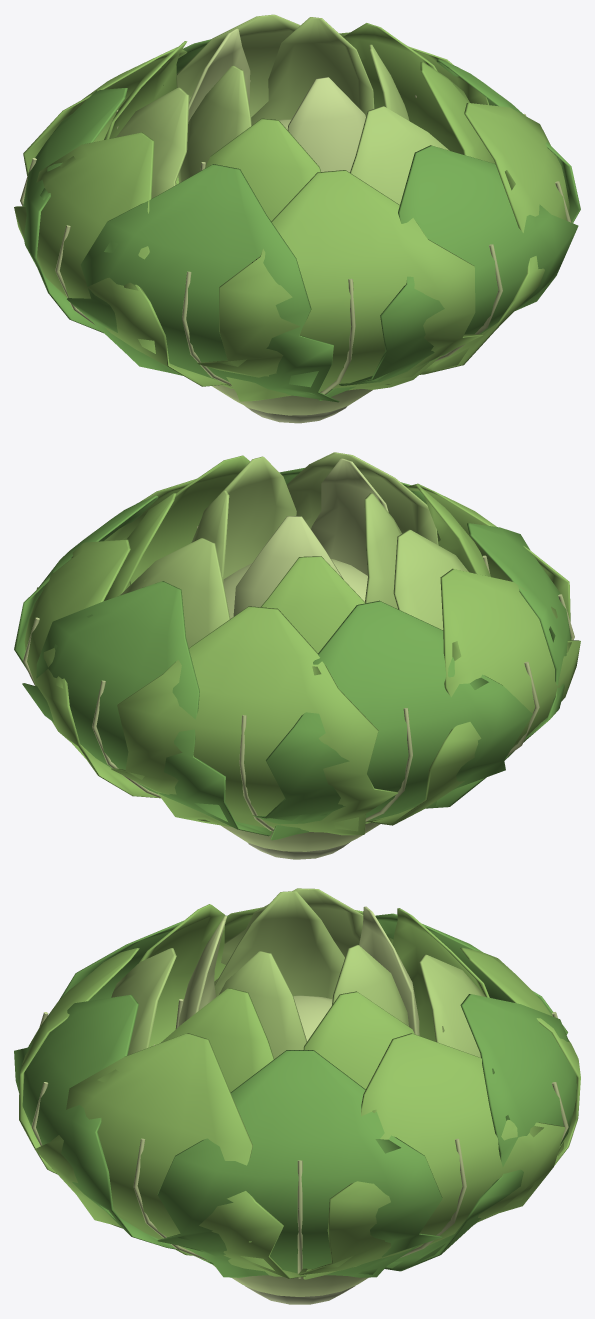
The model's file is lettuce_head.glb.
3 renders of one model, top to bottom at view 1: azimuth 30°, elevation 25°; view 2: azimuth 150°, elevation 25°; view 3: azimuth 270°, elevation 25°, orthographic.
Parts seen in each view (by area): view 1: Lettuce_Ruffled_Leaf_07, Lettuce_Ruffled_Leaf_06, Lettuce_Ruffled_Leaf_08, Lettuce_Ruffled_Leaf_05, Lettuce_Ruffled_Leaf_09, Lettuce_Ruffled_Leaf_17, Lettuce_Ruffled_Leaf_14, Lettuce_Ruffled_Leaf_04, Lettuce_Ruffled_Leaf_10, Lettuce_Ruffled_Leaf_20, Lettuce_Ruffled_Leaf_15, Lettuce_Ruffled_Leaf_19 (+13 smaller); view 2: Lettuce_Ruffled_Leaf_03, Lettuce_Ruffled_Leaf_04, Lettuce_Ruffled_Leaf_02, Lettuce_Ruffled_Leaf_05, Lettuce_Ruffled_Leaf_01, Lettuce_Ruffled_Leaf_06, Lettuce_Ruffled_Leaf_21, Lettuce_Ruffled_Leaf_12, Lettuce_Ruffled_Leaf_11, Lettuce_Ruffled_Leaf_20, Lettuce_Ruffled_Leaf_15, Lettuce_Ruffled_Leaf_13 (+14 smaller); view 3: Lettuce_Ruffled_Leaf_00, Lettuce_Ruffled_Leaf_09, Lettuce_Ruffled_Leaf_01, Lettuce_Ruffled_Leaf_02, Lettuce_Ruffled_Leaf_08, Lettuce_Ruffled_Leaf_19, Lettuce_Ruffled_Leaf_10, Lettuce_Ruffled_Leaf_16, Lettuce_Ruffled_Leaf_14, Lettuce_Ruffled_Leaf_21, Lettuce_Ruffled_Leaf_11, Lettuce_Ruffled_Leaf_12 (+15 smaller).
Part boxes in pixels (left/top/right/bottom): Lettuce_Ruffled_Leaf_07: left=197, top=170, right=482, bottom=401; Lettuce_Ruffled_Leaf_06: left=67, top=164, right=339, bottom=402; Lettuce_Ruffled_Leaf_08: left=319, top=145, right=578, bottom=400; Lettuce_Ruffled_Leaf_05: left=14, top=132, right=233, bottom=388; Lettuce_Ruffled_Leaf_09: left=419, top=103, right=569, bottom=374; Lettuce_Ruffled_Leaf_17: left=251, top=17, right=374, bottom=125; Lettuce_Ruffled_Leaf_14: left=205, top=118, right=320, bottom=221; Lettuce_Ruffled_Leaf_04: left=23, top=88, right=127, bottom=333; Lettuce_Ruffled_Leaf_10: left=343, top=23, right=463, bottom=154; Lettuce_Ruffled_Leaf_20: left=287, top=77, right=365, bottom=172; Lettuce_Ruffled_Leaf_15: left=350, top=106, right=449, bottom=204; Lettuce_Ruffled_Leaf_19: left=178, top=65, right=251, bottom=183; Lettuce_Ruffled_Leaf_03: left=111, top=606, right=398, bottom=835; Lettuce_Ruffled_Leaf_04: left=253, top=600, right=532, bottom=840; Lettuce_Ruffled_Leaf_02: left=22, top=581, right=272, bottom=836; Lettuce_Ruffled_Leaf_05: left=365, top=568, right=580, bottom=825; Lettuce_Ruffled_Leaf_01: left=24, top=539, right=159, bottom=798; Lettuce_Ruffled_Leaf_06: left=425, top=523, right=571, bottom=808; Lettuce_Ruffled_Leaf_21: left=221, top=456, right=296, bottom=578; Lettuce_Ruffled_Leaf_12: left=260, top=556, right=365, bottom=652; Lettuce_Ruffled_Leaf_11: left=120, top=538, right=230, bottom=647; Lettuce_Ruffled_Leaf_20: left=311, top=458, right=388, bottom=575; Lettuce_Ruffled_Leaf_15: left=286, top=452, right=438, bottom=545; Lettuce_Ruffled_Leaf_13: left=393, top=529, right=468, bottom=629; Lettuce_Ruffled_Leaf_00: left=157, top=1050, right=442, bottom=1277; Lettuce_Ruffled_Leaf_09: left=35, top=1033, right=306, bottom=1278; Lettuce_Ruffled_Leaf_01: left=298, top=1033, right=565, bottom=1279; Lettuce_Ruffled_Leaf_02: left=384, top=994, right=576, bottom=1271; Lettuce_Ruffled_Leaf_08: left=14, top=994, right=213, bottom=1264; Lettuce_Ruffled_Leaf_19: left=214, top=891, right=344, bottom=999; Lettuce_Ruffled_Leaf_10: left=303, top=991, right=414, bottom=1089; Lettuce_Ruffled_Leaf_16: left=161, top=988, right=273, bottom=1092; Lettuce_Ruffled_Leaf_14: left=138, top=904, right=225, bottom=1047; Lettuce_Ruffled_Leaf_21: left=219, top=951, right=306, bottom=1058; Lettuce_Ruffled_Leaf_11: left=419, top=954, right=485, bottom=1057; Lettuce_Ruffled_Leaf_12: left=392, top=908, right=489, bottom=1041.
Bounding box in the file's own units: 0.298 × 0.21 × 0.2911.
